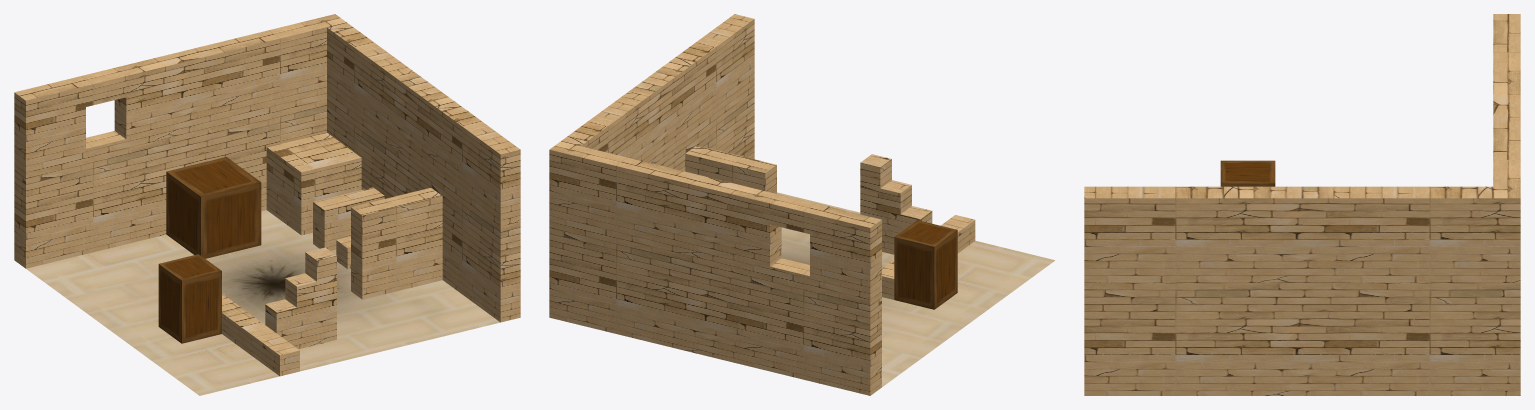
File: Level3.FBX
3 views of the same model, side by side, from view 1: azimuth 30°, elevation 25°; view 2: azimuth 150°, elevation 25°; view 3: azimuth 270°, elevation 25° (orthographic). The views are drawn at different scales.
Parts seen in each view (by area): view 1: scene; view 2: scene; view 3: scene.
Part boxes in pixels (x1,y1,x2,y2): scene: (14,14,520,395); scene: (549,14,1054,395); scene: (1084,14,1520,395).
Bounding box in the file's own units: 192 × 96 × 192.
Materials: 3 (3 with a texture image).
